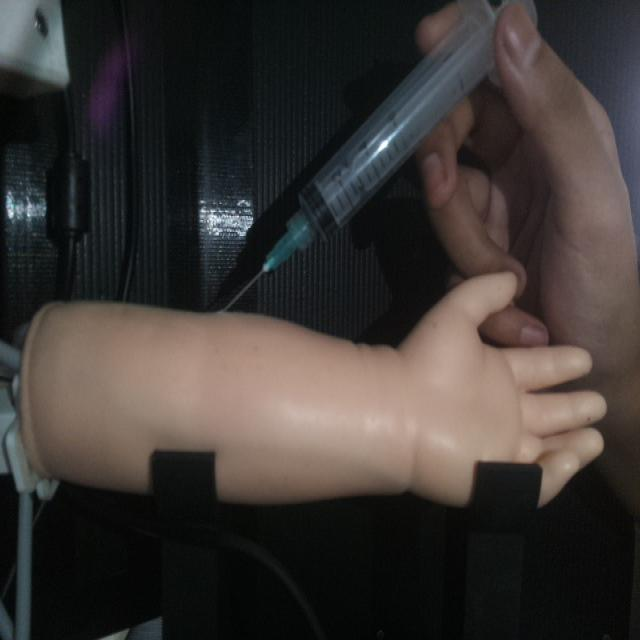Above 30 degrees: (217, 0, 542, 320)
